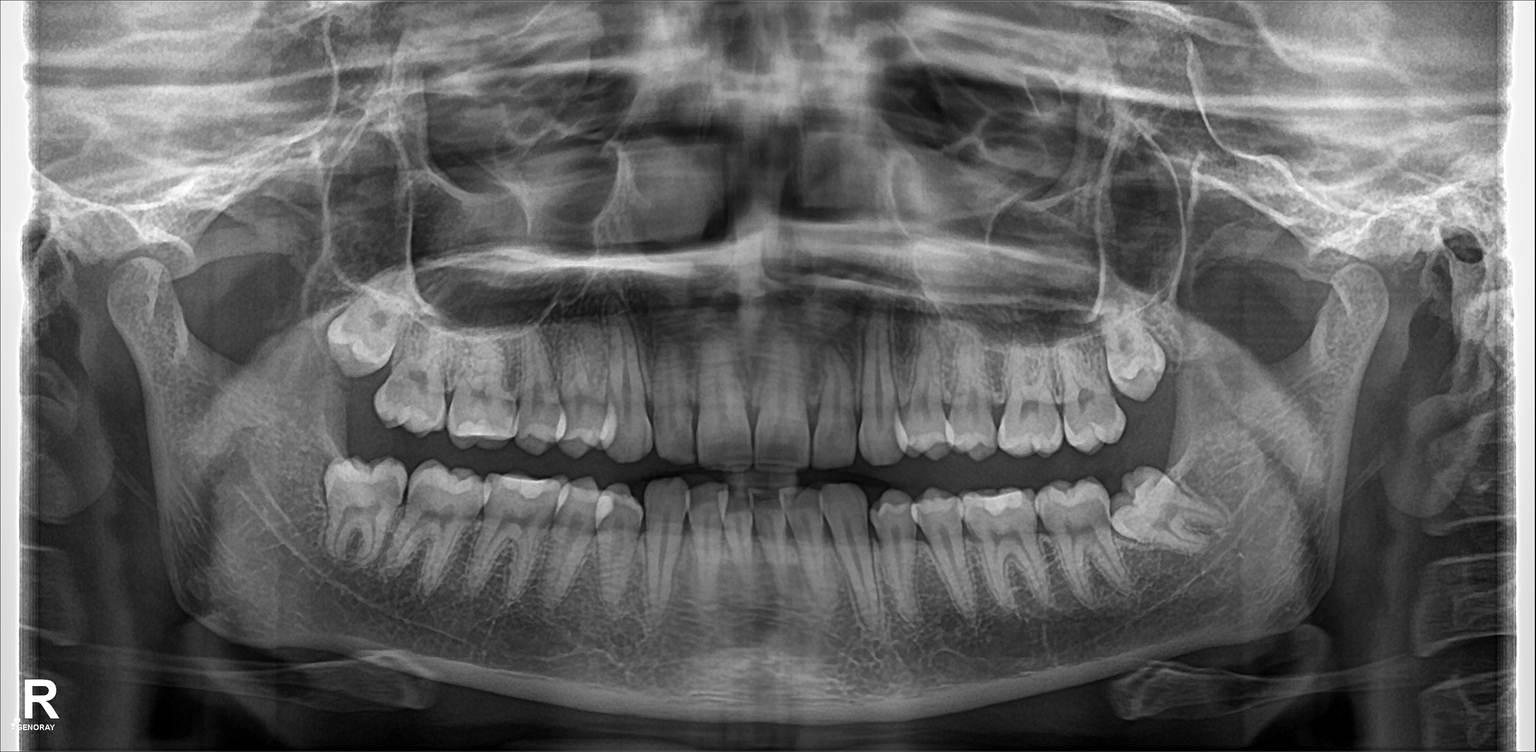Impacted Third Molar: (1110, 471, 1228, 547), (317, 292, 402, 378), (1102, 309, 1175, 393)
